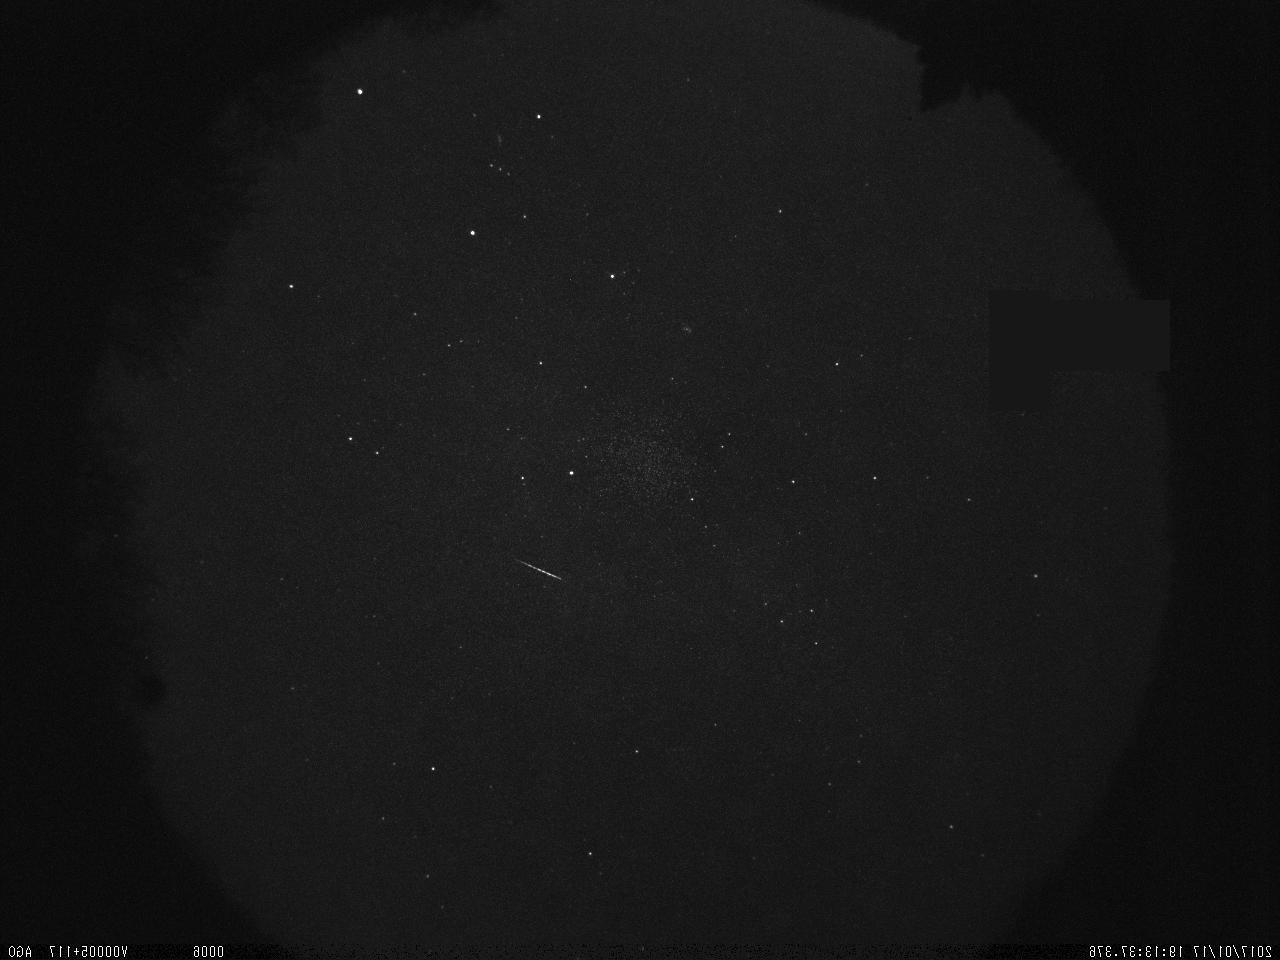meteor: (508, 545, 574, 595)
